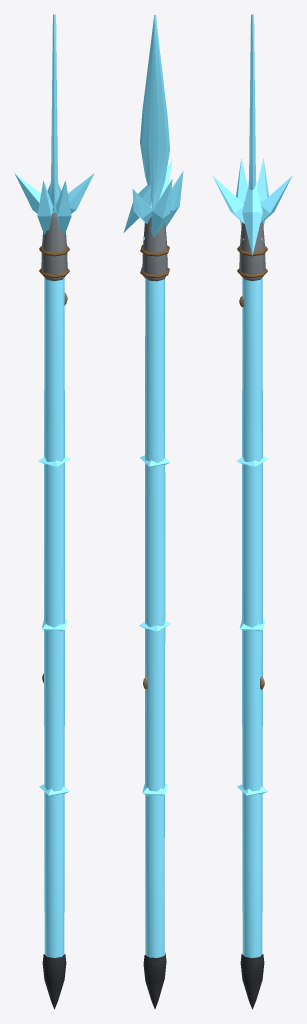
File: ice-spear.lod2.glb
The picture shows the model from 3 angles, left to right: view 1: azimuth 90°, elevation 25°; view 2: azimuth 150°, elevation 25°; view 3: azimuth 270°, elevation 25°; orthographic projection.
Parts seen in each view (by area): view 1: crystal / faceted crystal, steel / forged blade steel, darksteel / oil-blackened fittings, bronze / cast bronze with patina; view 2: crystal / faceted crystal, steel / forged blade steel, darksteel / oil-blackened fittings, bronze / cast bronze with patina; view 3: crystal / faceted crystal, steel / forged blade steel, darksteel / oil-blackened fittings, bronze / cast bronze with patina.
Part boxes in pixels (x1,y1,x2,y2): crystal / faceted crystal: (14, 14, 94, 957); steel / forged blade steel: (41, 213, 67, 280); darksteel / oil-blackened fittings: (42, 954, 66, 1009); bronze / cast bronze with patina: (39, 246, 69, 278); crystal / faceted crystal: (123, 14, 183, 957); steel / forged blade steel: (142, 217, 167, 281); darksteel / oil-blackened fittings: (143, 952, 166, 1009); bronze / cast bronze with patina: (140, 245, 169, 278); crystal / faceted crystal: (212, 14, 292, 957); steel / forged blade steel: (239, 222, 265, 280); darksteel / oil-blackened fittings: (240, 954, 264, 1009); bronze / cast bronze with patina: (237, 246, 267, 278).
Bounding box in the file's own units: 0.1213 × 2.12 × 0.1549.
Materials: 5 (3 with a texture image).
